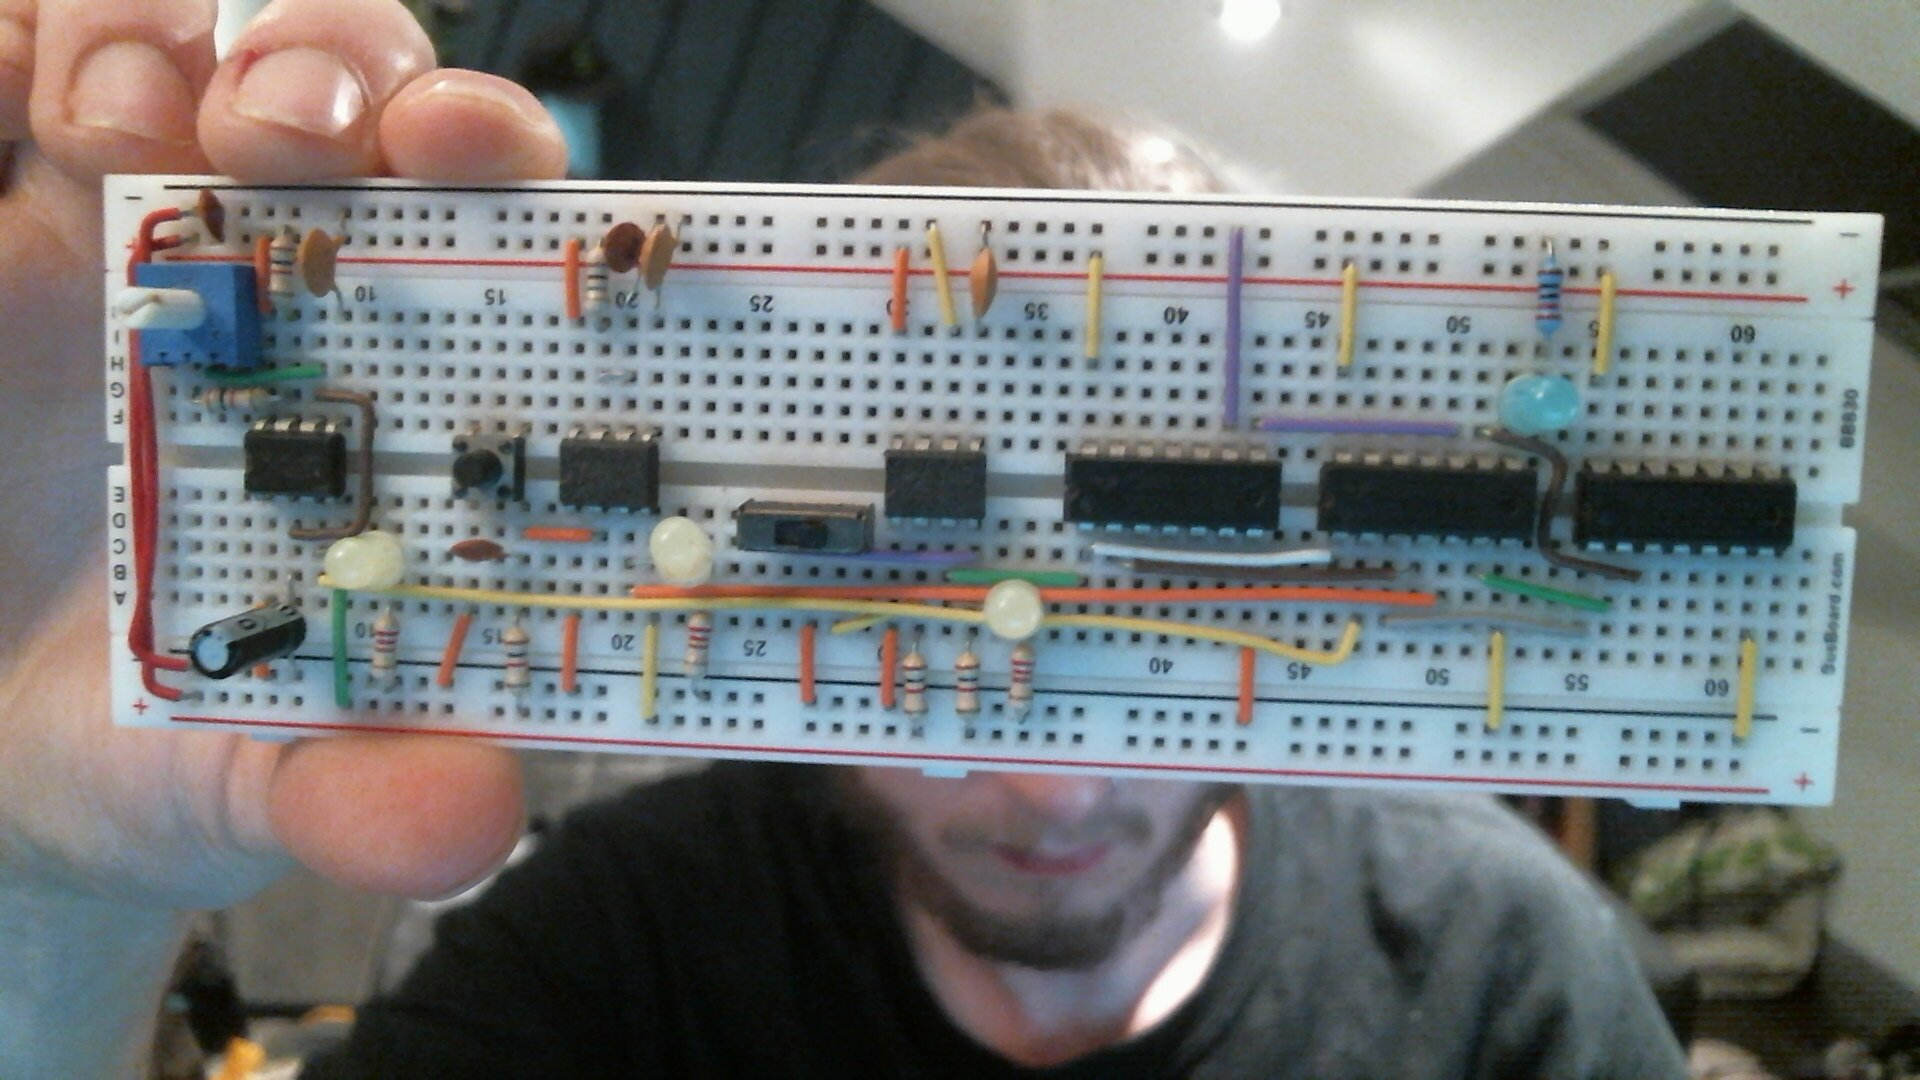IC: (1572, 456, 1799, 558), (1316, 452, 1539, 551), (1063, 444, 1284, 543), (241, 418, 349, 506), (884, 440, 988, 529), (556, 431, 661, 516)
LED: (320, 527, 410, 596), (1495, 371, 1582, 439), (647, 514, 717, 588), (981, 576, 1047, 642)
ceramic_capacitor: (297, 225, 349, 307), (964, 240, 1005, 330), (637, 220, 682, 301), (600, 222, 644, 276), (446, 535, 513, 568), (194, 186, 229, 247)
electrolytic_capacitor: (189, 600, 310, 682)
resistor: (678, 611, 716, 698), (498, 622, 535, 708), (1532, 251, 1567, 342), (1006, 641, 1039, 729), (265, 227, 298, 315), (195, 384, 280, 418), (367, 607, 401, 688), (898, 647, 932, 727), (953, 644, 984, 731)
